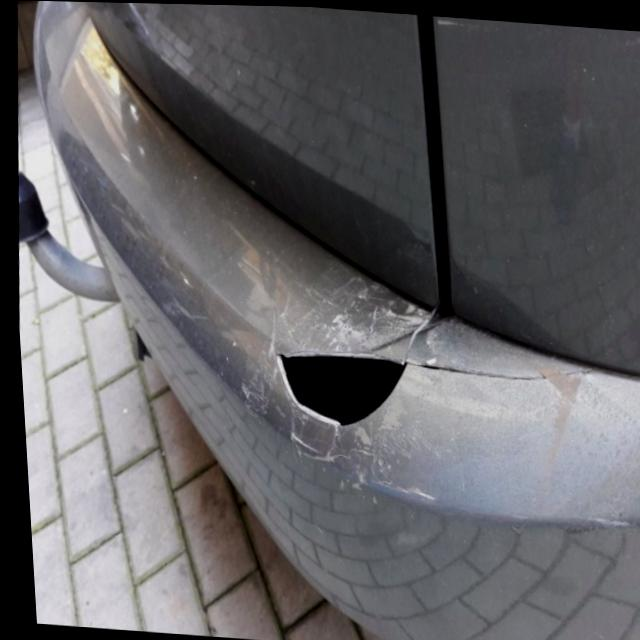Crack: (266, 342, 409, 435)
Paint-Crack: (401, 353, 593, 386)
Scratch: (294, 276, 436, 351)
